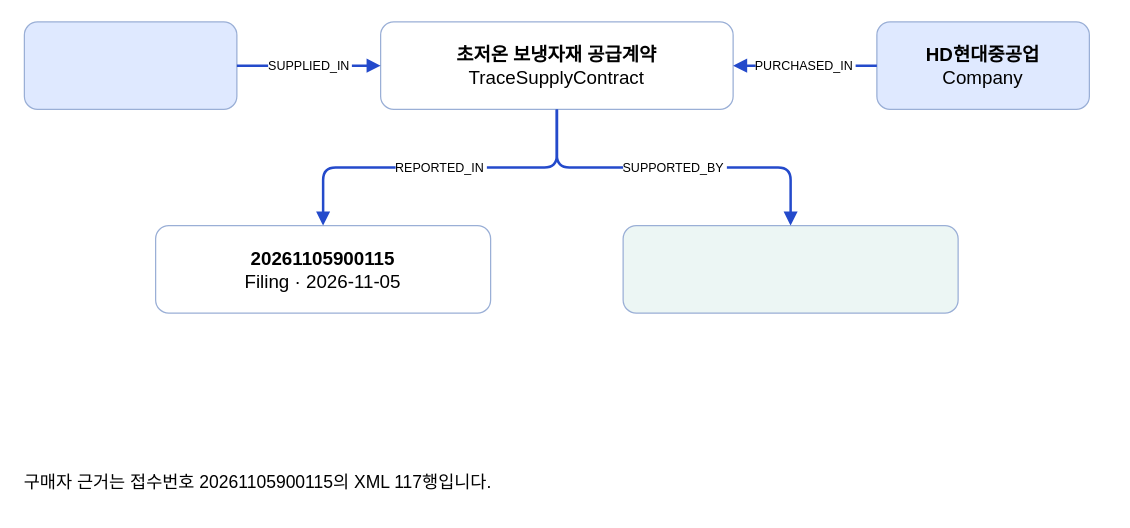
This 1130x528 diagram has some shape labels left out. Each missing label, with the centre of its shape:
"계약상대방 · XML 117행 TraceContractEvidence" belongs at point (790, 268).
"동성화인텍 Company" belongs at point (130, 65).
